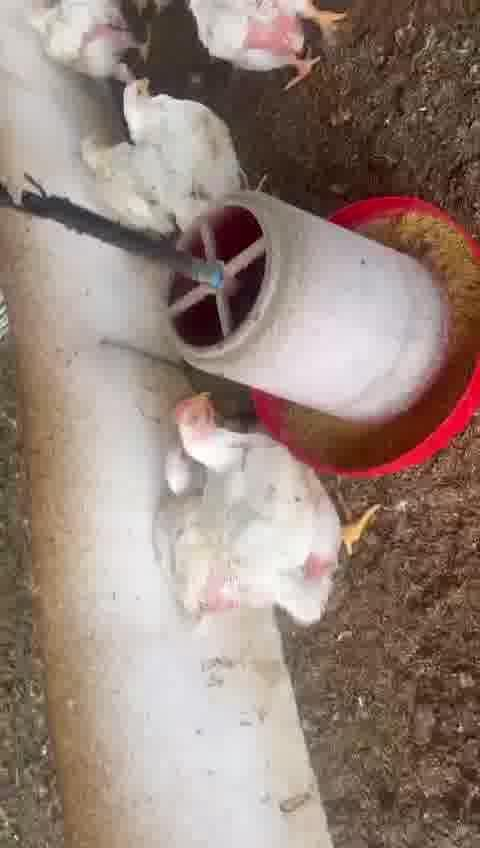Normal: (172, 394, 374, 616), (160, 450, 327, 612), (117, 77, 255, 186), (189, 2, 350, 86), (24, 1, 156, 78)
